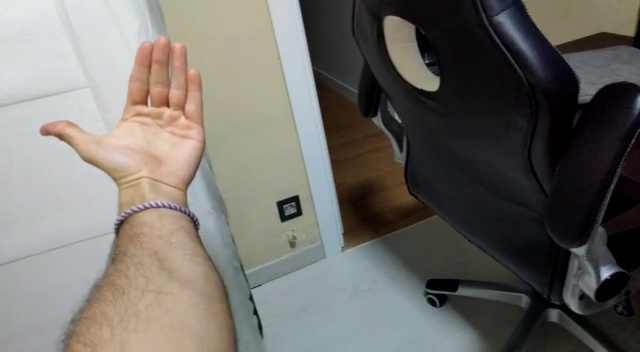Palm: (37, 33, 205, 191)
